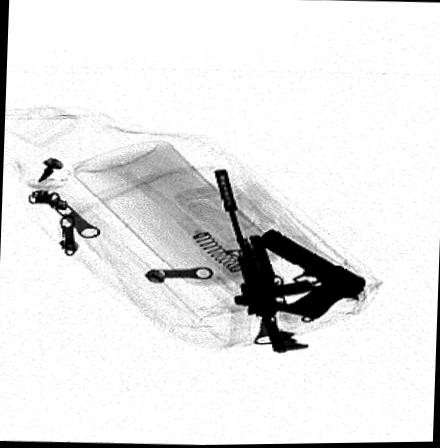Gun: (211, 167, 324, 353), (253, 228, 365, 318)
